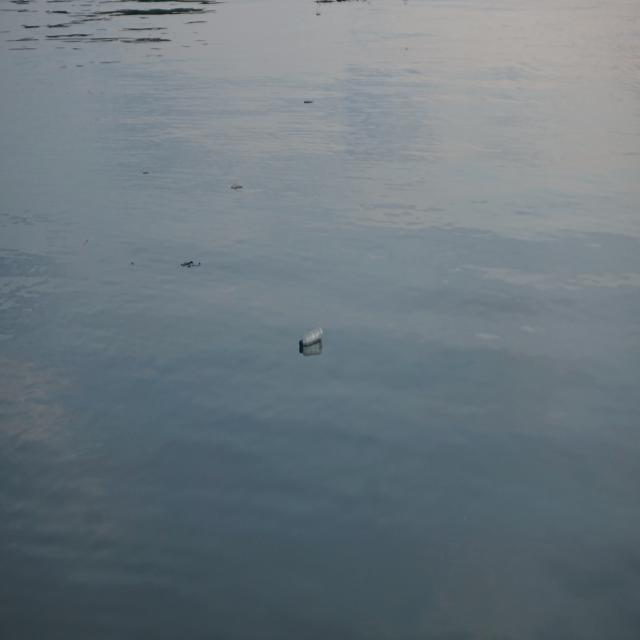Botol Plastik: (296, 324, 327, 357)
